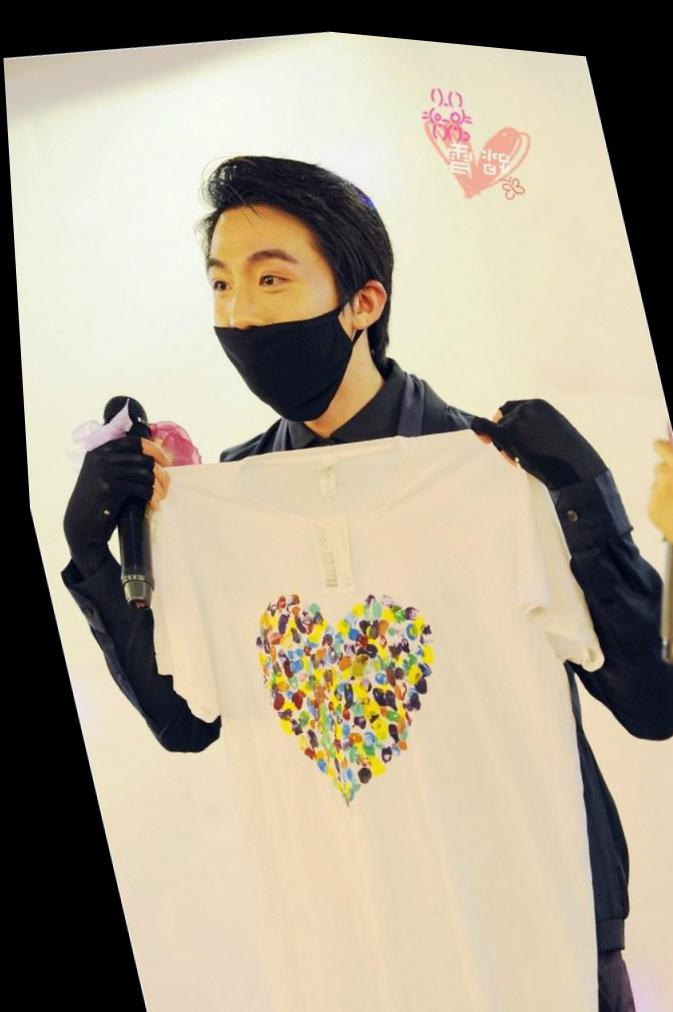WRONG: (177, 219, 376, 424)
